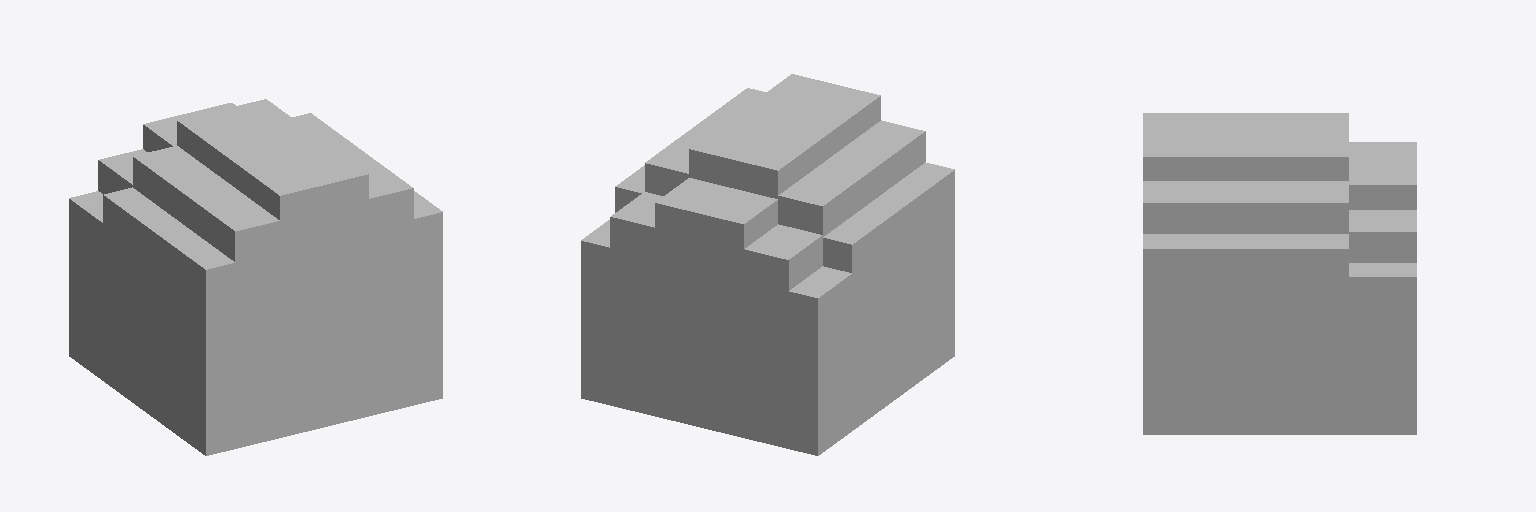
File: head.obj
3 renders of one model, left to right at view 1: azimuth 30°, elevation 25°; view 2: azimuth 150°, elevation 25°; view 3: azimuth 270°, elevation 25°, orthographic.
Parts seen in each view (by area): view 1: Cube_Cube.002; view 2: Cube_Cube.002; view 3: Cube_Cube.002.
Part boxes in pixels (bbox=[...]): Cube_Cube.002: bbox=[69, 99, 442, 455]; Cube_Cube.002: bbox=[581, 74, 954, 455]; Cube_Cube.002: bbox=[1143, 113, 1416, 434].
Bounding box in the file's own units: 2 × 1.95 × 2.